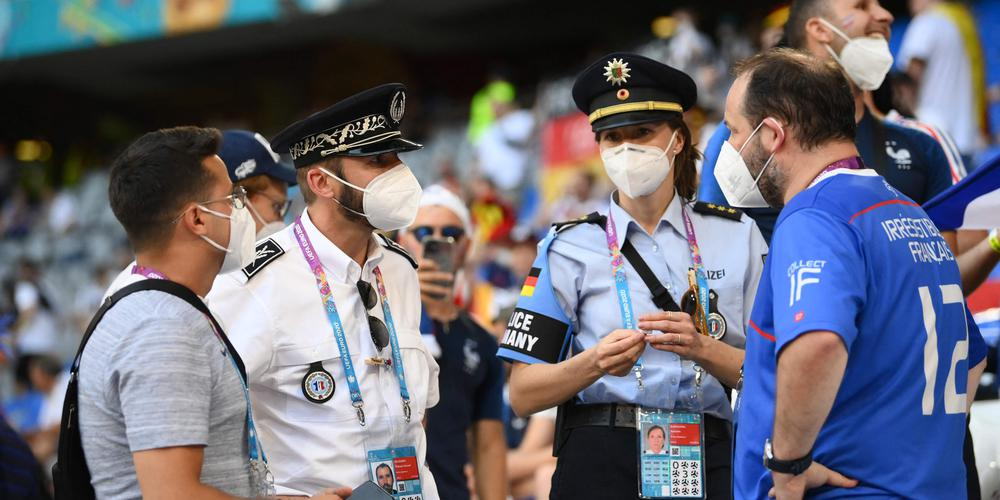with_incorrect_mask: (816, 1, 898, 88)
with_mask: (713, 107, 793, 217), (331, 155, 428, 243), (187, 186, 255, 280), (594, 130, 689, 197)
